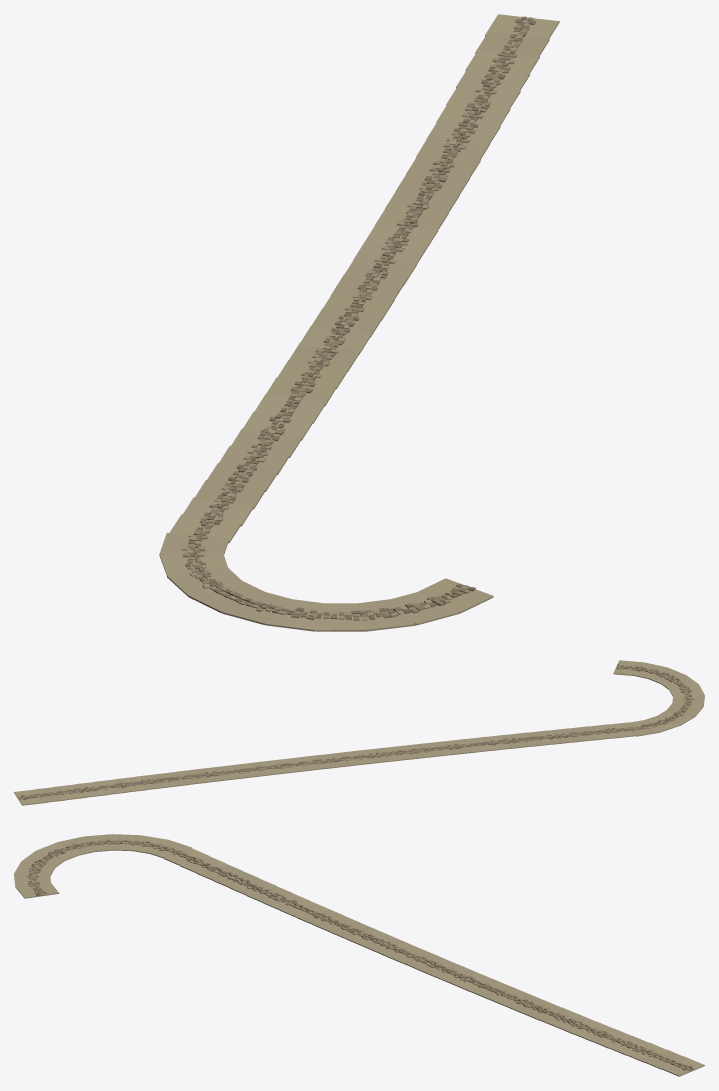
Rendered from bimini-beachrock.glb.
3 views of the same model, one above another, from view 1: azimuth 30°, elevation 25°; view 2: azimuth 150°, elevation 25°; view 3: azimuth 270°, elevation 25° (orthographic). The views are drawn at different scales.
Parts seen in each view (by area): view 1: bimini-beachrock; view 2: bimini-beachrock; view 3: bimini-beachrock.
Boxes of the visible parts, left/top/right/bottom form: bimini-beachrock: left=159, top=14, right=559, bottom=631; bimini-beachrock: left=14, top=660, right=704, bottom=805; bimini-beachrock: left=14, top=834, right=704, bottom=1076.
Bounding box in the file's own units: 473 × 1.67 × 571.
